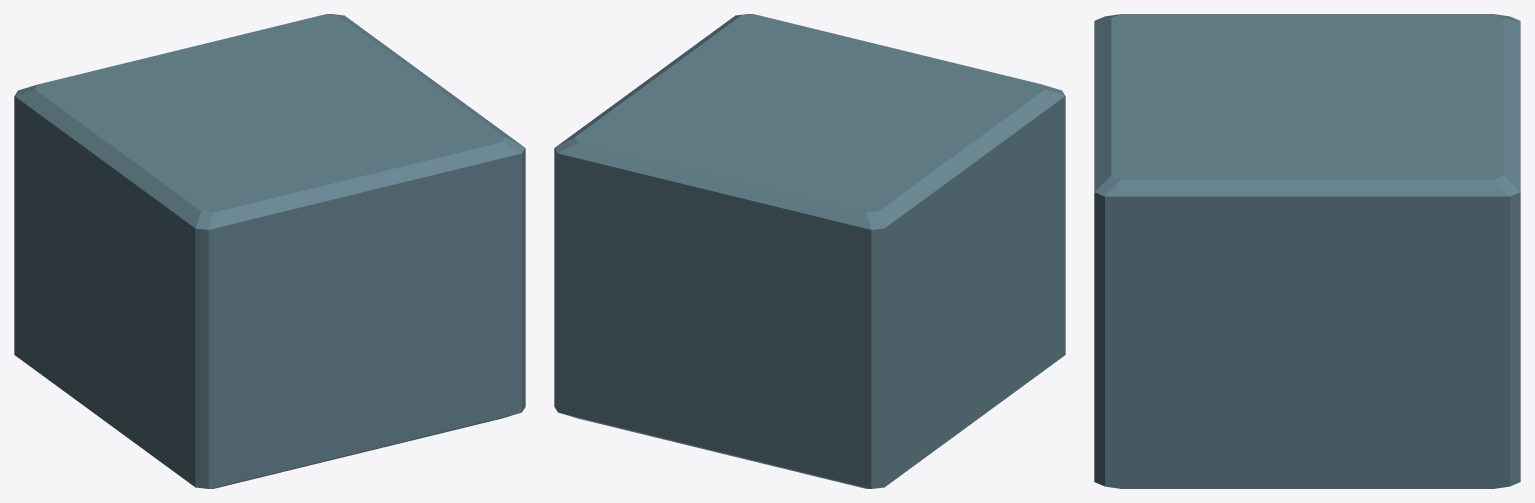
File: plinth.glb
3 renders of one model, left to right at view 1: azimuth 30°, elevation 25°; view 2: azimuth 150°, elevation 25°; view 3: azimuth 270°, elevation 25°, orthographic. The views are drawn at different scales.
Parts seen in each view (by area): view 1: plinth; view 2: plinth; view 3: plinth.
Part boxes in pixels (left/top/right/bottom): plinth: left=14, top=14, right=525, bottom=488; plinth: left=554, top=14, right=1065, bottom=488; plinth: left=1094, top=14, right=1520, bottom=488.
Bounding box in the file's own units: 1 × 0.8 × 1.
